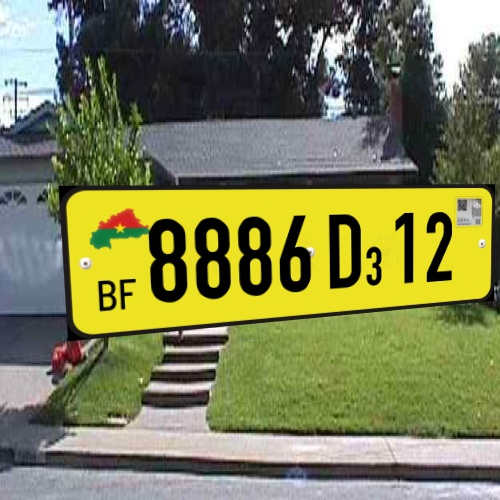plate: (44, 161, 500, 348)
